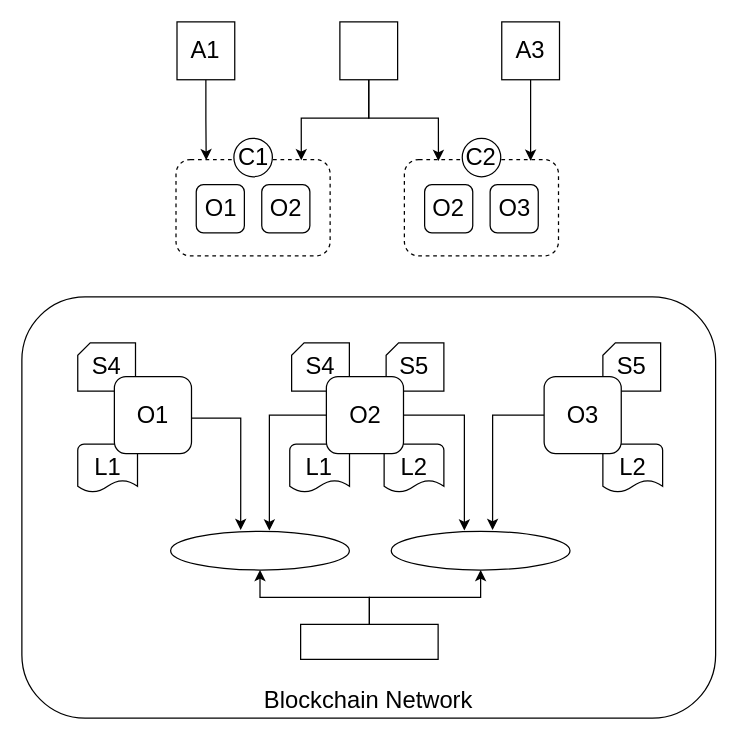
Image size: 738x740. Some labels were removed from this diagram. Here are the shapes that lost their labels. From the top down, the centre of each, then its label:
the point at 368,50: A2
the point at 259,550: Channel1
the point at 480,550: Channel2
the point at 368,641: Orderer
